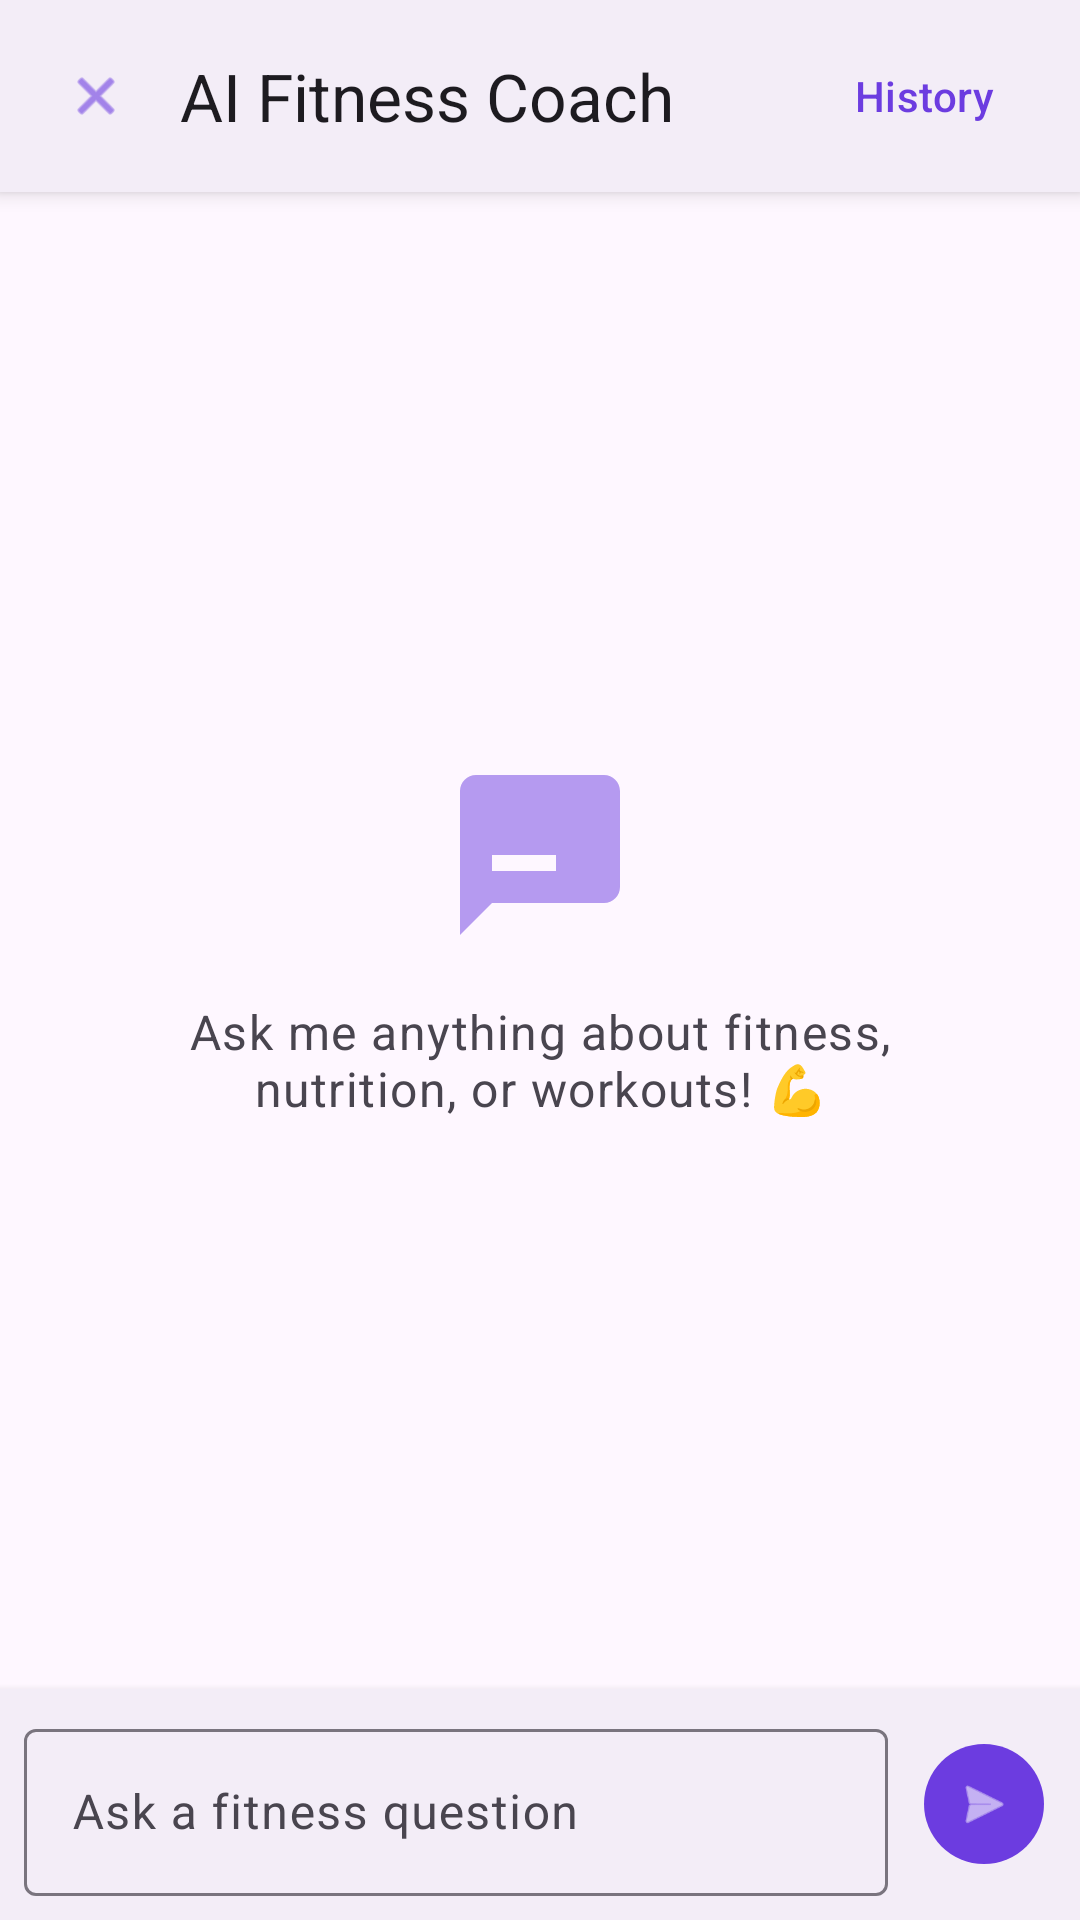

Icons on this 1080w x 1920h Android screen, each with the point to tap as point (x, y):
Chat: point (540, 855)
Send: point (984, 1804)
